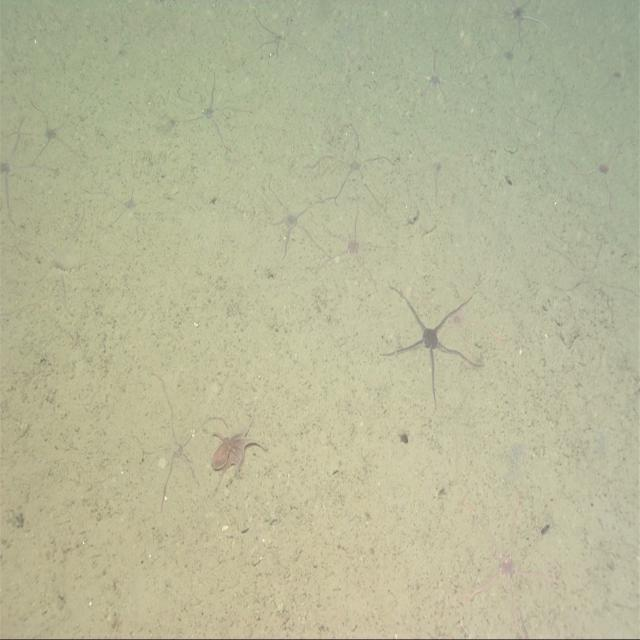Brittle Star: (454, 479, 563, 633), (384, 271, 488, 418), (133, 366, 229, 504), (310, 123, 402, 212), (258, 170, 334, 266), (174, 66, 250, 160), (318, 202, 392, 289), (18, 91, 84, 176), (403, 40, 473, 119), (99, 170, 159, 235)
Not Brittle Star: (209, 405, 271, 493)
